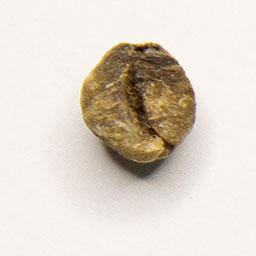defect: (76, 37, 200, 167)
